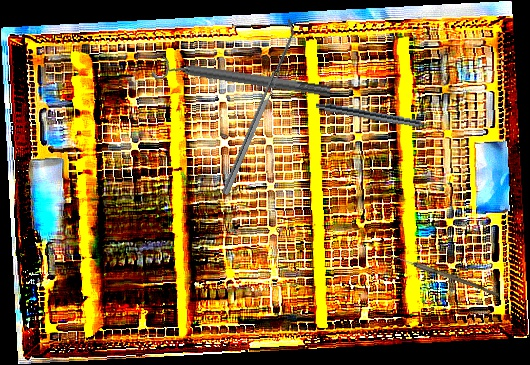Fixation Ring: (150, 50, 333, 107)
Handpiece: (315, 101, 442, 134)
Spatula Surgical: (215, 18, 301, 196)
Surgical Spoon: (383, 251, 501, 297)
